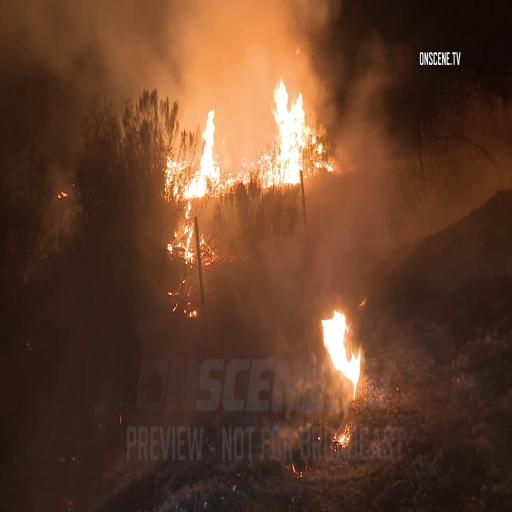fire: (317, 300, 369, 424), (257, 75, 314, 183), (178, 110, 224, 202)
